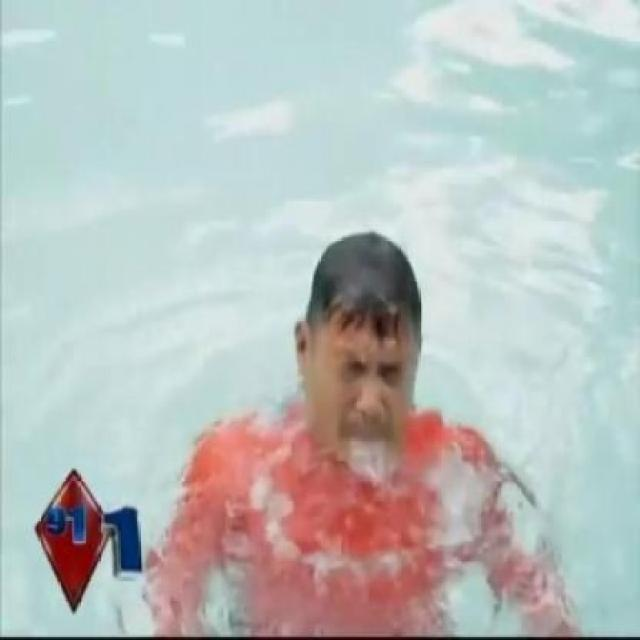drowning: (176, 182, 550, 640)
